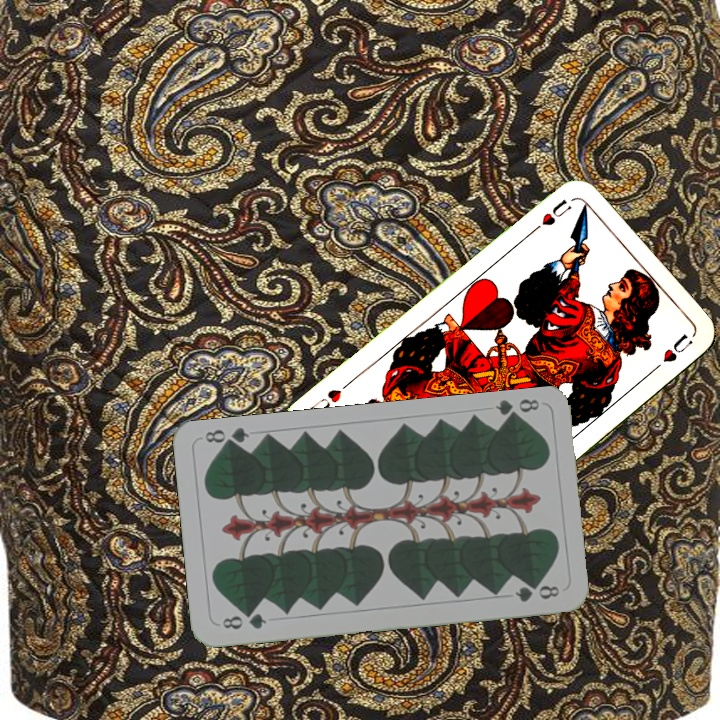G8: (491, 395, 542, 424), (218, 608, 269, 632)
HU: (537, 195, 574, 229)
